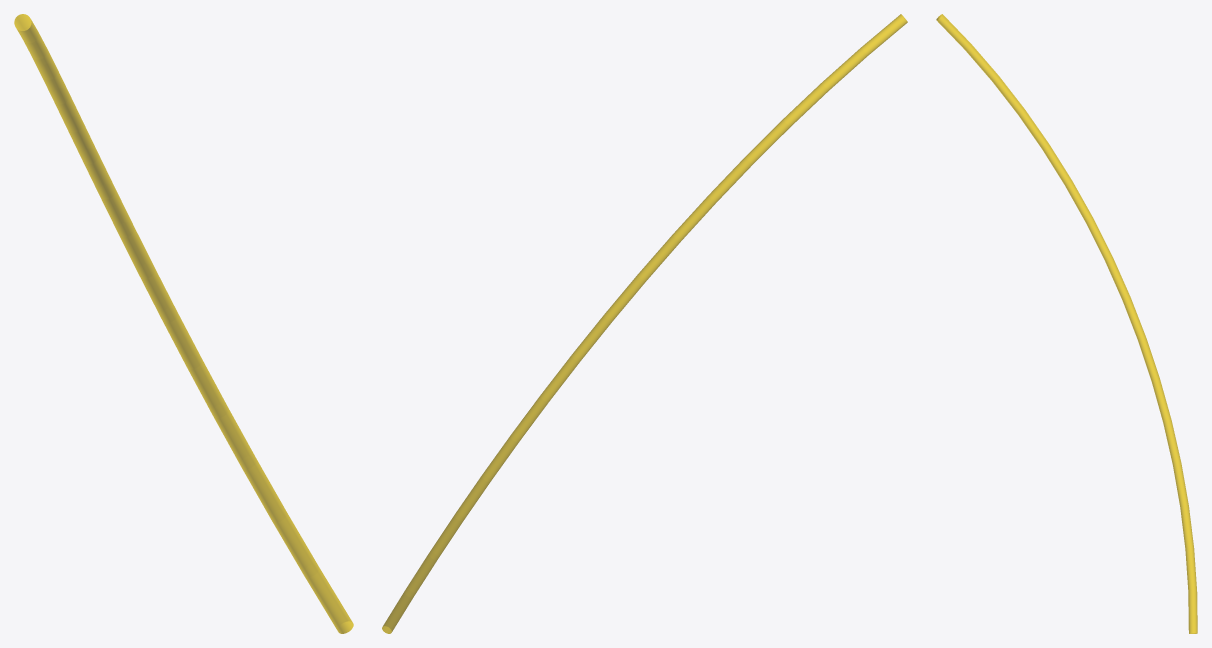
Rendered from Event_17758602_track_105.fbx.
3 views of the same model, side by side, from view 1: azimuth 30°, elevation 25°; view 2: azimuth 150°, elevation 25°; view 3: azimuth 270°, elevation 25° (orthographic). The views are drawn at different scales.
Parts seen in each view (by area): view 1: Model; view 2: Model; view 3: Model.
Part boxes in pixels (<box>): Model: <box>14,14,353,633</box>; Model: <box>382,14,907,633</box>; Model: <box>936,14,1197,633</box>.
Size of the model in its own units: 1.55 by 2.38 by 1.18.
